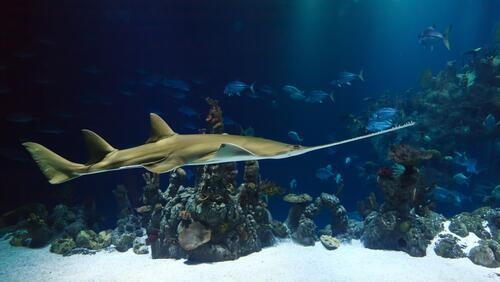shark: (22, 112, 417, 185)
